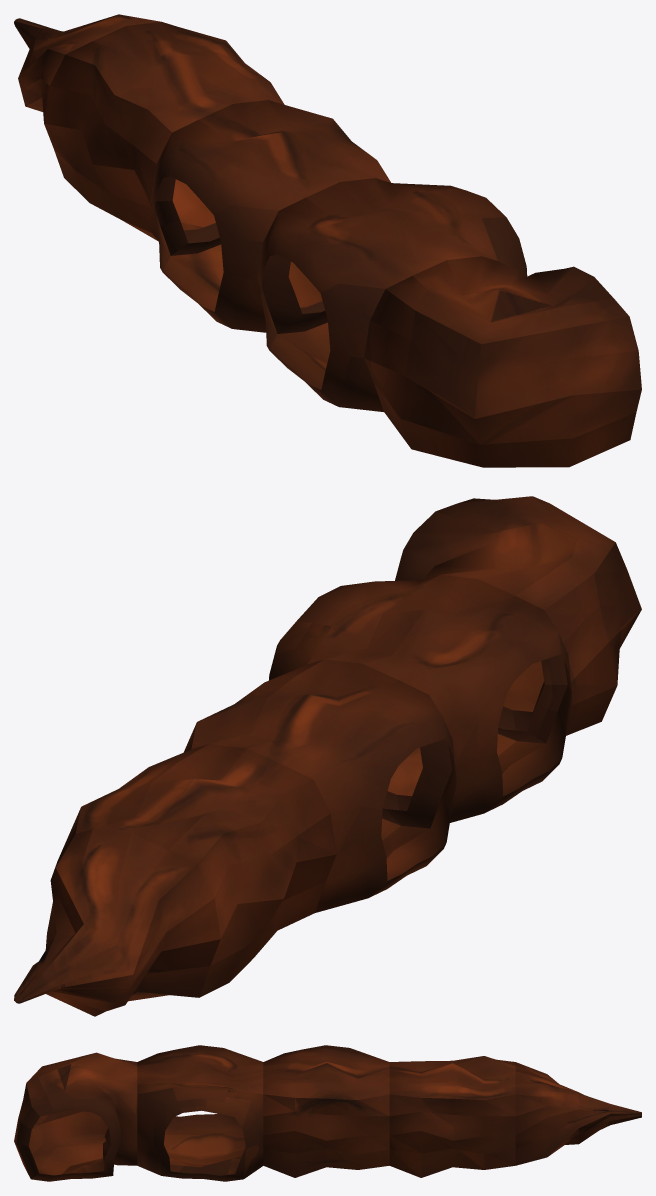
3 renders of one model, top to bottom at view 1: azimuth 30°, elevation 25°; view 2: azimuth 150°, elevation 25°; view 3: azimuth 270°, elevation 25°, orthographic. The views are drawn at different scales.
Parts seen in each view (by area): view 1: RootBend, RootShoot02, RootShoot01, RootStraight, RootTip; view 2: RootShoot02, RootShoot01, RootStraight, RootBend, RootTip; view 3: RootShoot02, RootShoot01, RootStraight, RootBend, RootTip.
Boxes of the visible parts, left/top/right/bottom form: RootBend: left=364, top=256, right=641, bottom=467; RootShoot02: left=257, top=178, right=527, bottom=411; RootShoot01: left=150, top=100, right=390, bottom=333; RootStraight: left=44, top=22, right=284, bottom=255; RootTip: left=14, top=14, right=161, bottom=122; RootShoot02: left=269, top=574, right=571, bottom=828; RootShoot01: left=183, top=659, right=456, bottom=912; RootStraight: left=58, top=744, right=336, bottom=997; RootBend: left=395, top=496, right=641, bottom=743; RootTip: left=14, top=828, right=220, bottom=1016; RootShoot02: left=137, top=1045, right=263, bottom=1181; RootShoot01: left=263, top=1045, right=389, bottom=1177; RootStraight: left=389, top=1056, right=515, bottom=1177; RootBend: left=14, top=1052, right=137, bottom=1181; RootTip: left=515, top=1062, right=641, bottom=1165.
Size of the model in its own units: 2.22 by 1.8 by 9.95.
